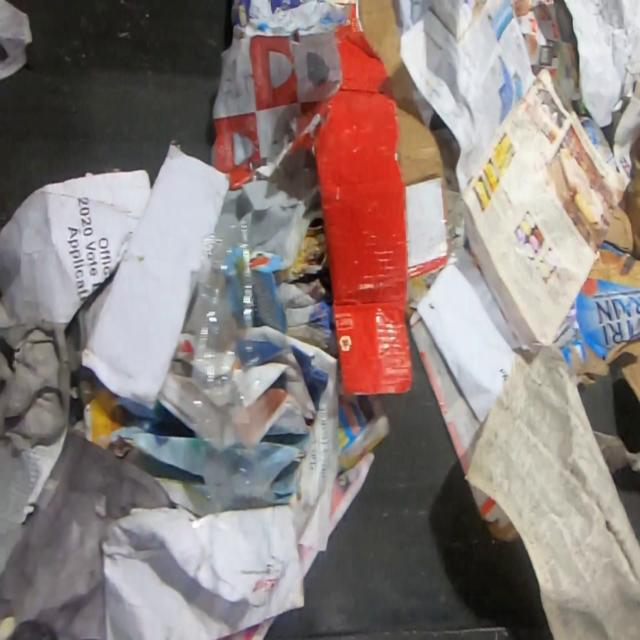cardboard: (315, 0, 448, 397), (552, 247, 640, 403)
soft_plastic: (0, 428, 174, 639), (190, 220, 274, 513)
